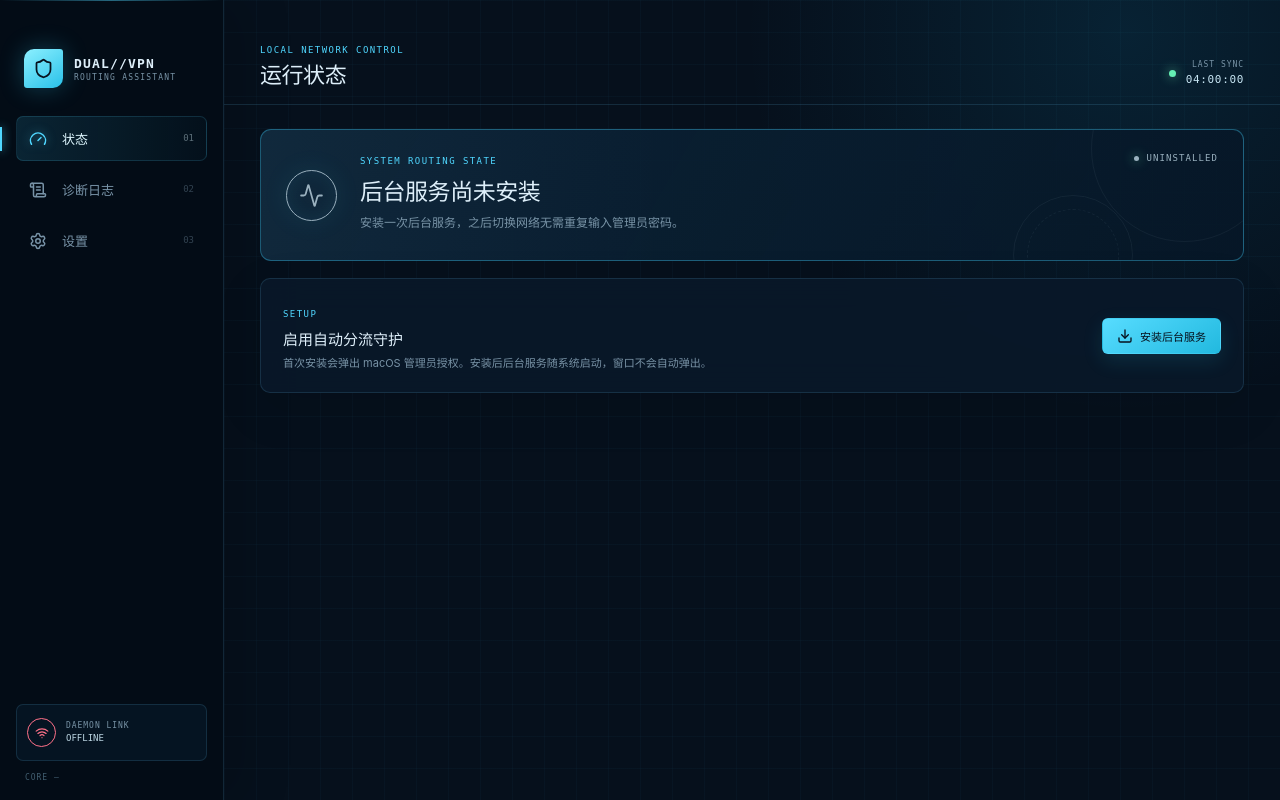
App › shows a privileged helper failure instead of a false success
What coordinates should you click on to do the following:
click the button "安装后台服务"
I would click on:
 (1162, 336)
Its box is 1102,318 -> 1221,354.
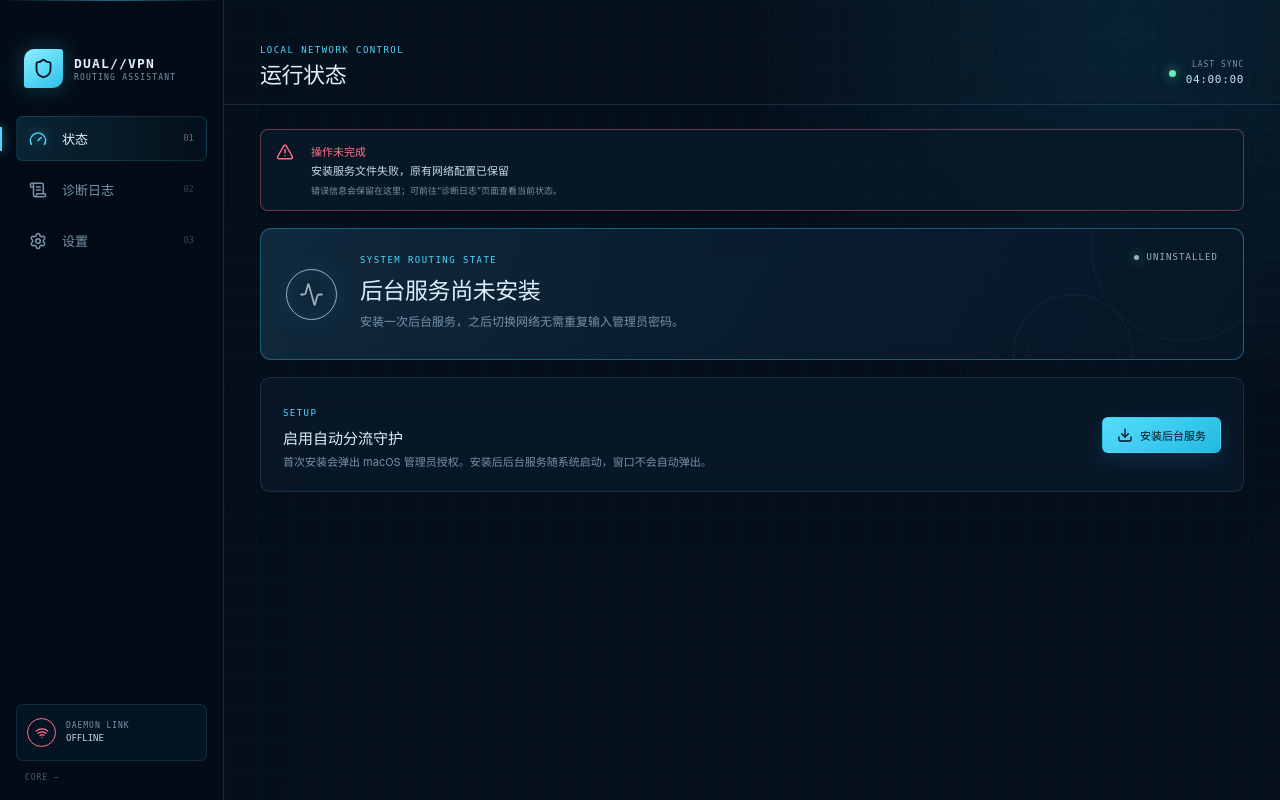
Expected: the message shows "安装服务文件失败，原有网络配置已保留", 311,164 -> 509,178
Expected: the message shows "诊断日志", 311,184 -> 562,196
